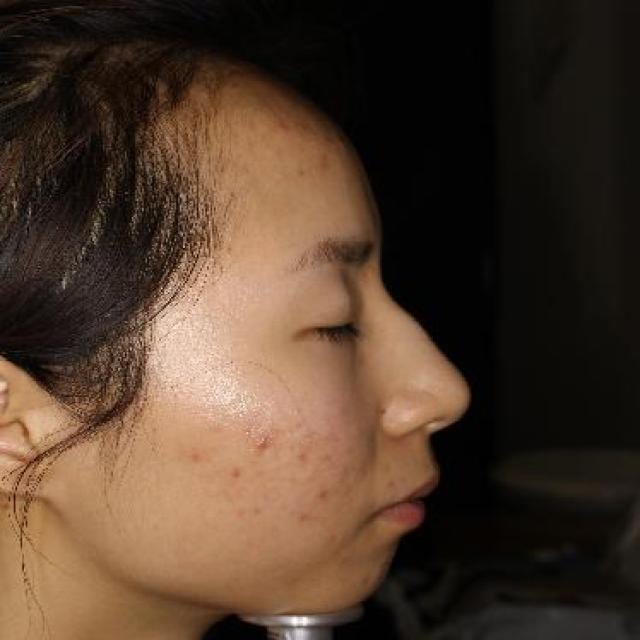dark spot: (231, 497, 269, 528), (310, 478, 339, 509), (289, 442, 317, 469), (185, 437, 209, 468), (291, 157, 313, 189), (226, 457, 248, 486)
papules: (250, 432, 274, 454)
